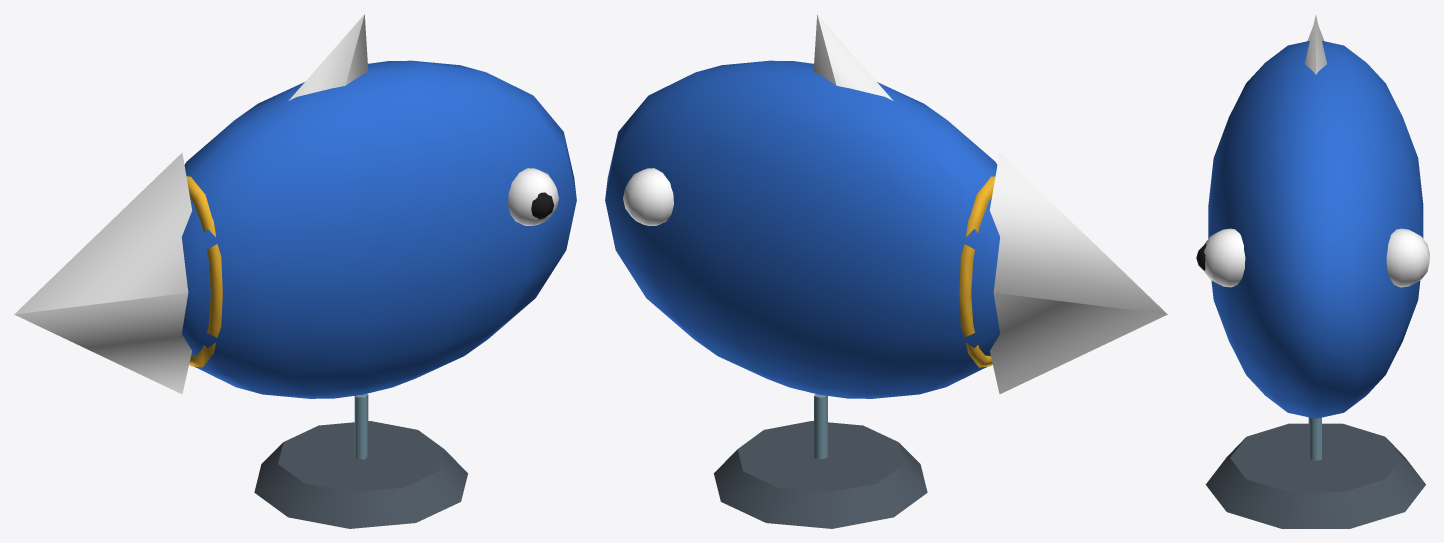
3 renders of one model, left to right at view 1: azimuth 30°, elevation 25°; view 2: azimuth 150°, elevation 25°; view 3: azimuth 270°, elevation 25°, orthographic.
Size of the model in its own units: 2.66 by 2.13 by 0.9521.
